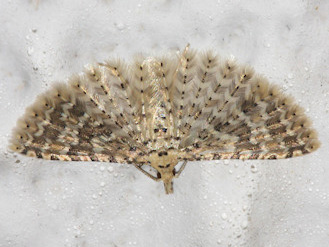Alucitidae: (6, 37, 320, 198)
moth: (8, 39, 322, 200)
